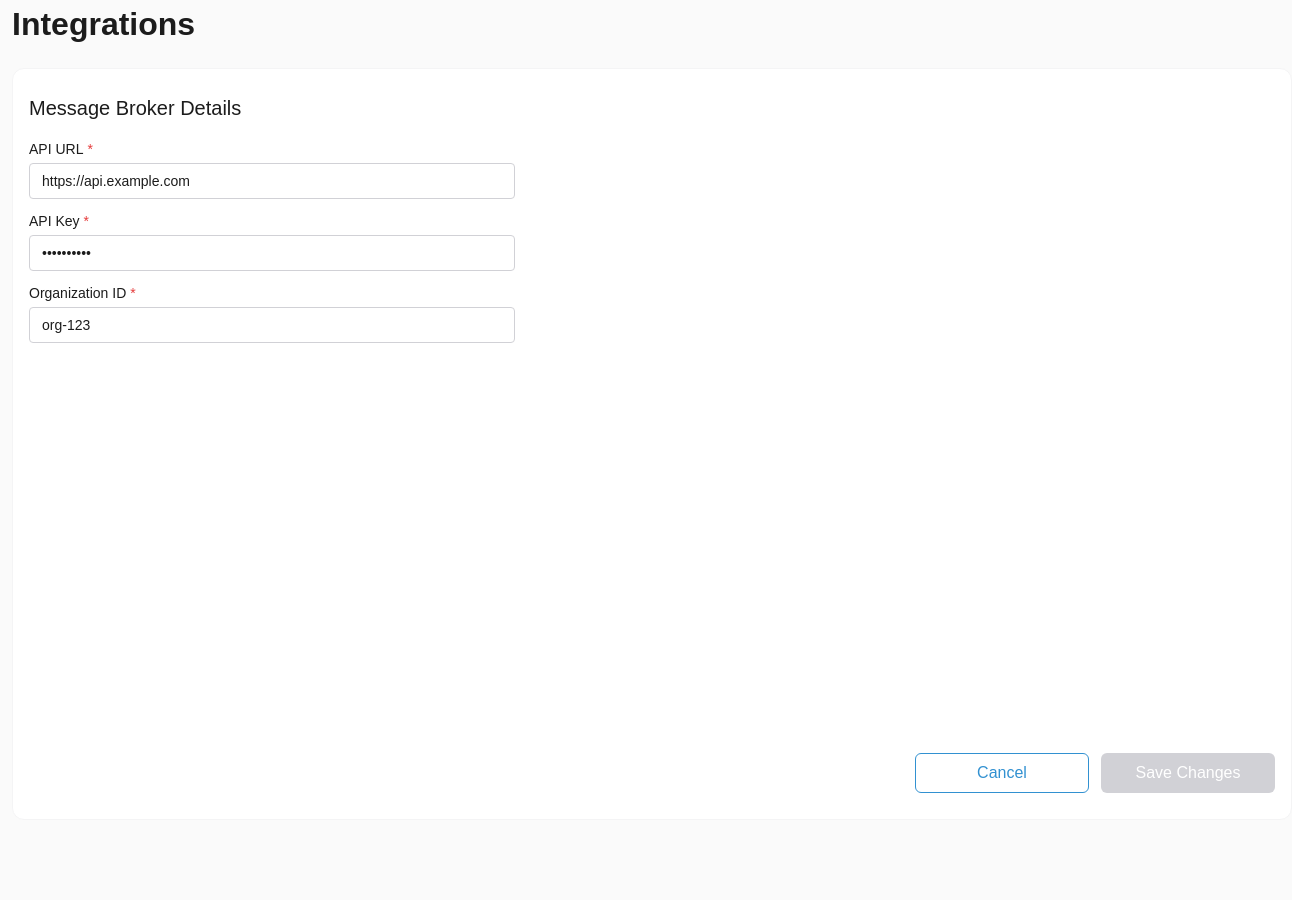
Scenario: IntegrationPage › shows inline error for invalid URL format on save
Type "not-a-url" into the field showing "https://api.example.com".
click(272, 181); type("not-a-url")  # box [29, 163, 515, 199]
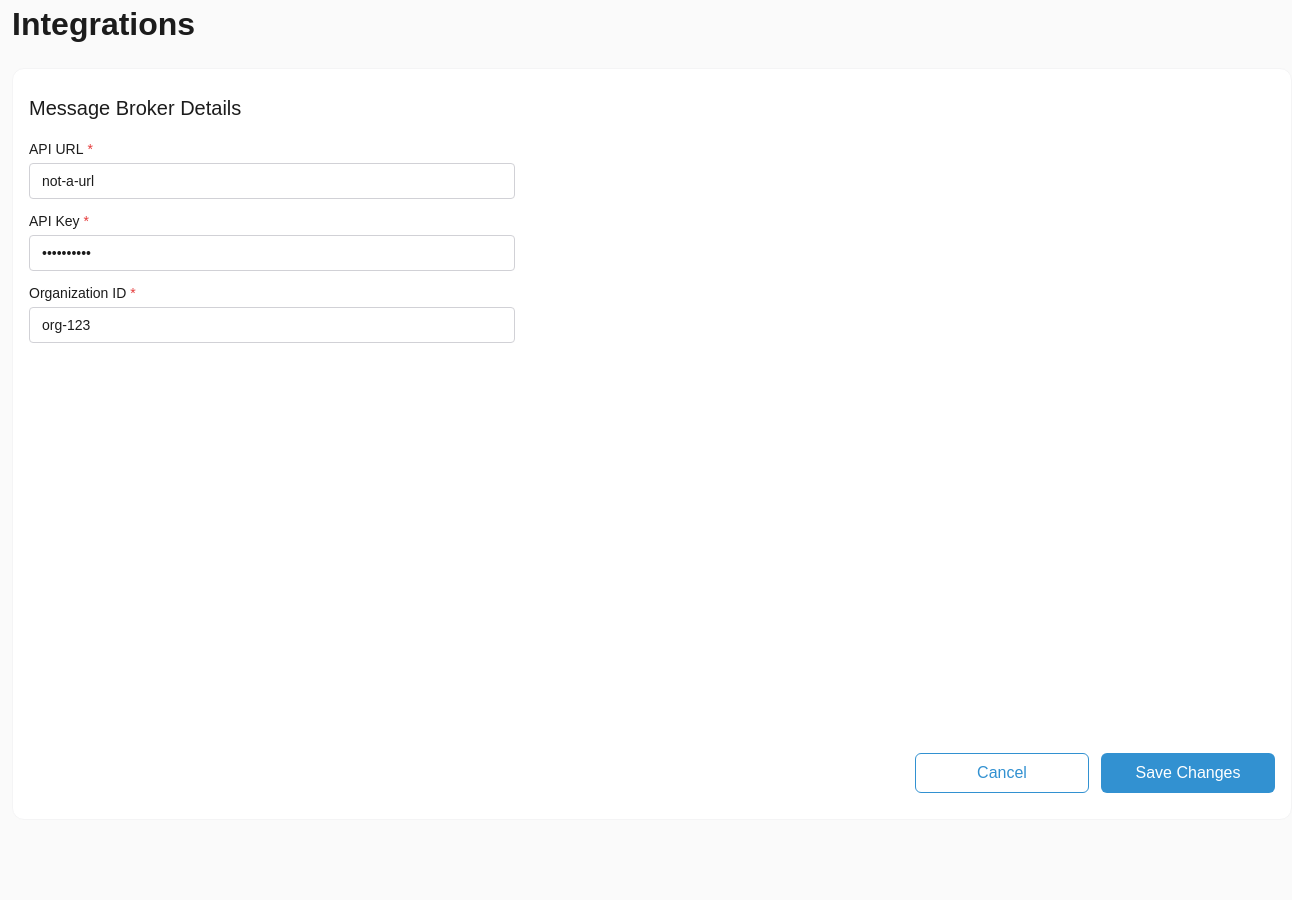
Click the button "Save Changes".
click(1188, 773)  # box [1101, 753, 1275, 793]
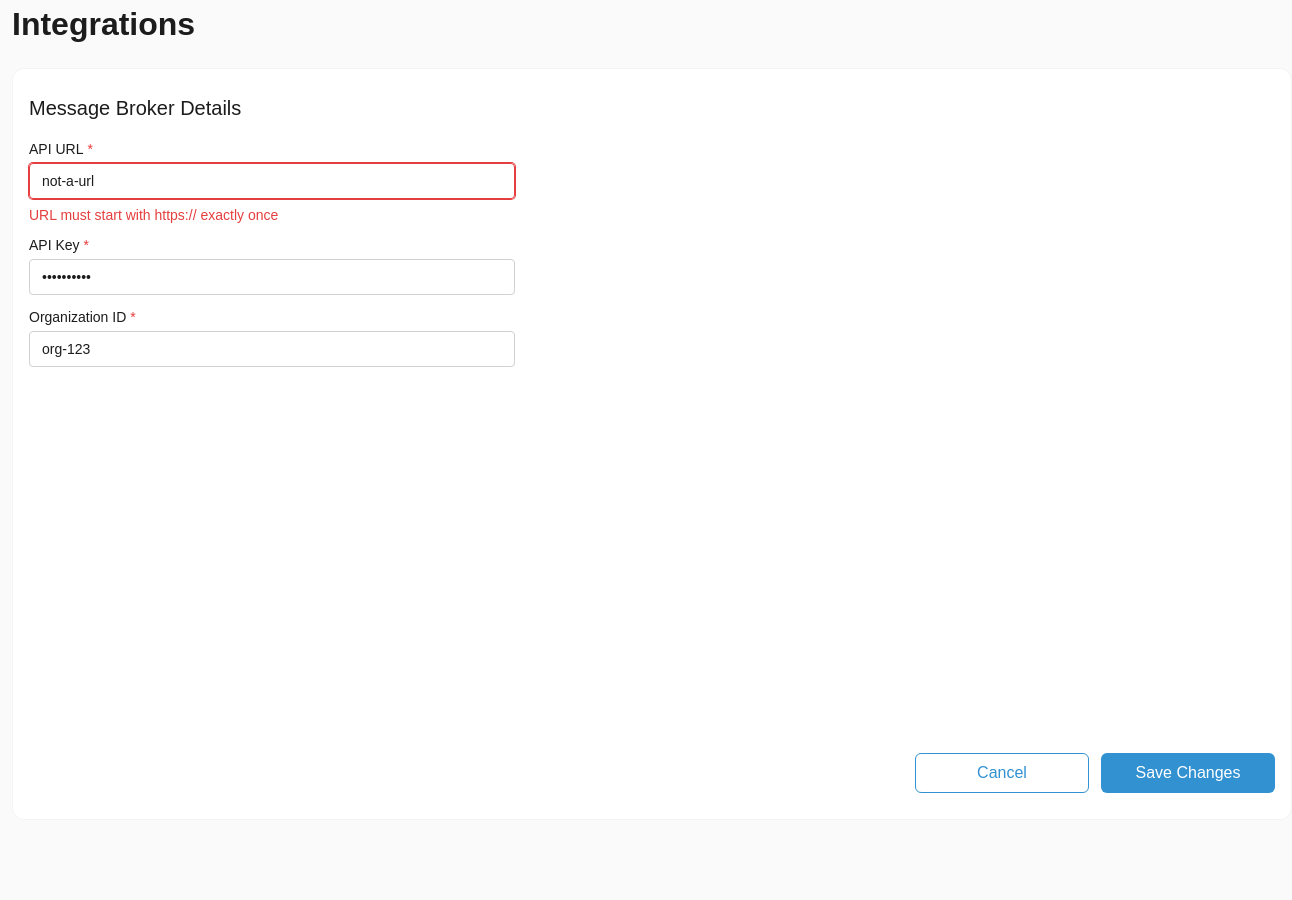
Result: the text "URL must start with https:// exactly once" is shown at [29, 207, 278, 223]
